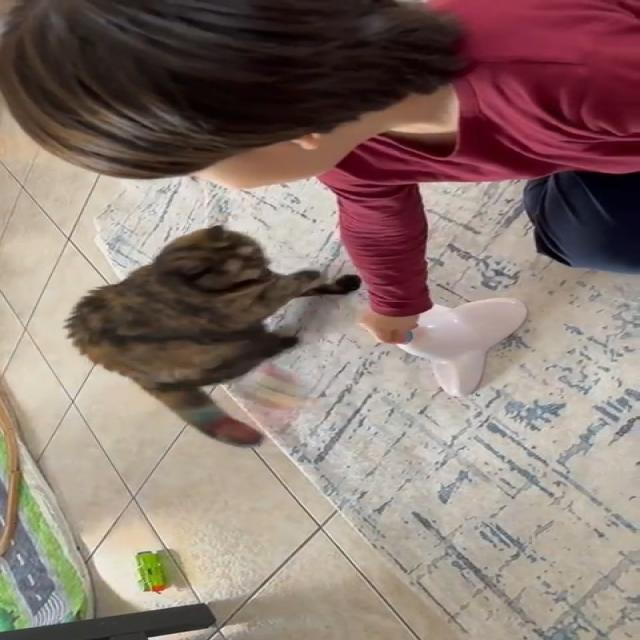authorized: (61, 223, 362, 448)
